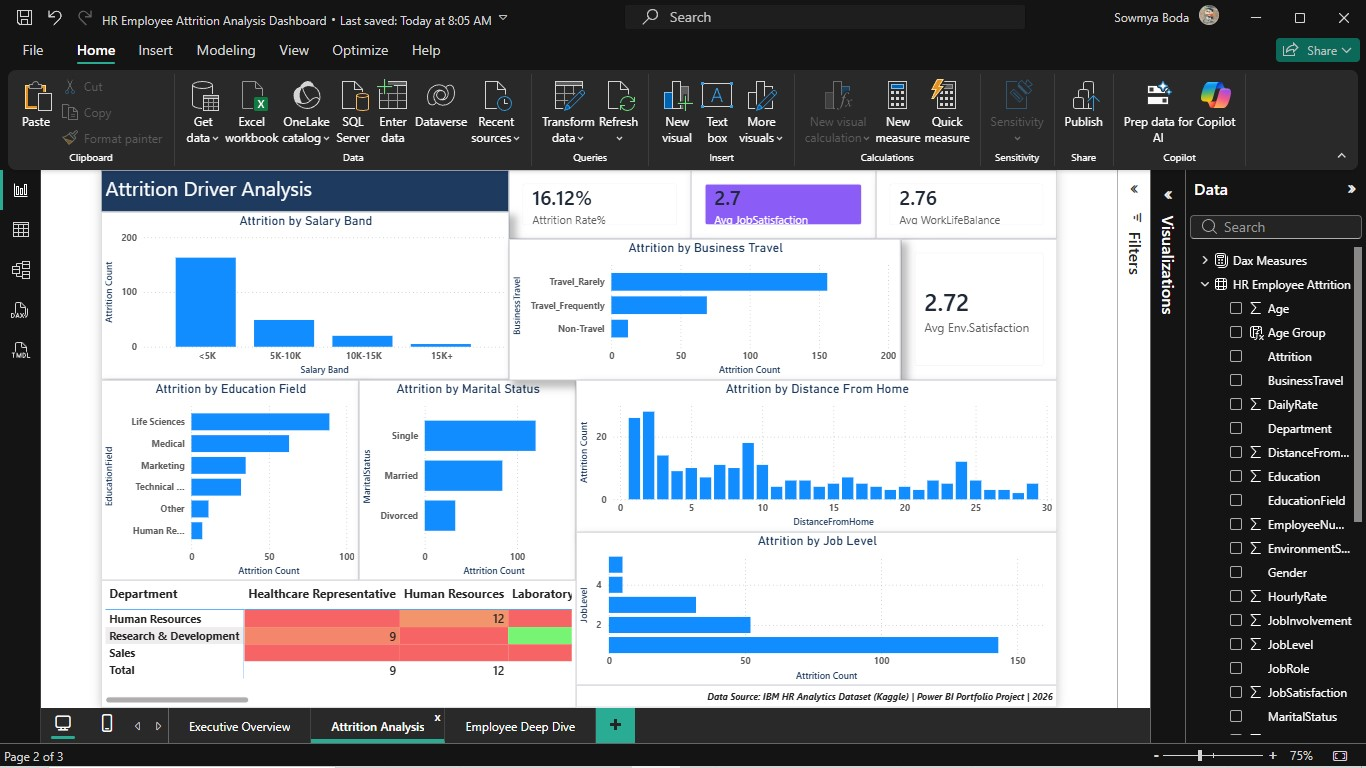

What the dashboard file says about the page in this screenshot:
{"tool":"powerbi","page":{"name":"Attrition Analysis","canvas":[1280,720],"ordinal":1},"visuals":[{"type":"textbox","box":[0,0,546.4,56.4],"z":0},{"type":"cardVisual","fields":{"Data":["Dax Measures.Attrition Rate%"]},"box":[546.4,0,243.6,92.2],"z":1000},{"type":"cardVisual","fields":{"Data":["Dax Measures.Avg JobSatisfaction"]},"box":[790,0,247.7,92.2],"z":2000},{"type":"cardVisual","fields":{"Data":["Dax Measures.Avg WorkLifeBalance"]},"box":[1037.8,0,242.2,92.2],"z":3000},{"type":"cardVisual","fields":{"Data":["Dax Measures.Avg Env.Satisfaction"]},"box":[1070.8,92.2,209.2,188.6],"z":4000},{"type":"columnChart","title":"Attrition by Salary Band","fields":{"Y":["Dax Measures.Attrition Count"],"Category":["HR Employee Attrition.Salary Band"]},"box":[0,56.4,546.4,224.3],"z":5000},{"type":"barChart","title":"Attrition by Education Field","fields":{"Y":["Dax Measures.Attrition Count"],"Category":["HR Employee Attrition.EducationField"]},"box":[0,280.8,345.5,268.4],"z":6000},{"type":"barChart","title":"Attrition by Marital Status","fields":{"Y":["Dax Measures.Attrition Count"],"Category":["HR Employee Attrition.MaritalStatus"]},"box":[345.5,280.8,290.4,268.4],"z":7000},{"type":"barChart","title":"Attrition by Business Travel","fields":{"Y":["Dax Measures.Attrition Count"],"Category":["HR Employee Attrition.BusinessTravel"]},"box":[546.4,92.2,524.4,188.6],"z":8000},{"type":"columnChart","title":"Attrition by Distance From Home","fields":{"Category":["HR Employee Attrition.DistanceFromHome"],"Y":["Dax Measures.Attrition Count"]},"box":[635.9,280.8,644.1,203.7],"z":9000},{"type":"barChart","title":"Attrition by Job Level","fields":{"Y":["Dax Measures.Attrition Count"],"Category":["HR Employee Attrition.JobLevel"]},"box":[635.9,484.5,644.1,205.1],"z":10000},{"type":"pivotTable","fields":{"Rows":["HR Employee Attrition.Department"],"Columns":["HR Employee Attrition.JobRole"],"Values":["Dax Measures.Attrition Count"]},"box":[0,549.2,635.9,170.7],"z":11000},{"type":"textbox","box":[635.9,689.5,644.1,30.3],"z":11001}]}

Visuals, with their boxes on the page's 1280x720 design canvas (x1, y1, x2, y2). These are canvas units, not pixel positions in the 1366x768 screenshot, which may show the page scaled, cropped or inside an application window:
textbox: {"left": 0, "top": 0, "right": 546, "bottom": 56}
cardVisual - Dax Measures.Attrition Rate%: {"left": 546, "top": 0, "right": 790, "bottom": 92}
cardVisual - Dax Measures.Avg JobSatisfaction: {"left": 790, "top": 0, "right": 1038, "bottom": 92}
cardVisual - Dax Measures.Avg WorkLifeBalance: {"left": 1038, "top": 0, "right": 1280, "bottom": 92}
cardVisual - Dax Measures.Avg Env.Satisfaction: {"left": 1071, "top": 92, "right": 1280, "bottom": 281}
"Attrition by Salary Band" columnChart: {"left": 0, "top": 56, "right": 546, "bottom": 281}
"Attrition by Education Field" barChart: {"left": 0, "top": 281, "right": 346, "bottom": 549}
"Attrition by Marital Status" barChart: {"left": 346, "top": 281, "right": 636, "bottom": 549}
"Attrition by Business Travel" barChart: {"left": 546, "top": 92, "right": 1071, "bottom": 281}
"Attrition by Distance From Home" columnChart: {"left": 636, "top": 281, "right": 1280, "bottom": 484}
"Attrition by Job Level" barChart: {"left": 636, "top": 484, "right": 1280, "bottom": 690}
pivotTable - HR Employee Attrition.Department x HR Employee Attrition.JobRole: {"left": 0, "top": 549, "right": 636, "bottom": 720}
textbox: {"left": 636, "top": 690, "right": 1280, "bottom": 720}
